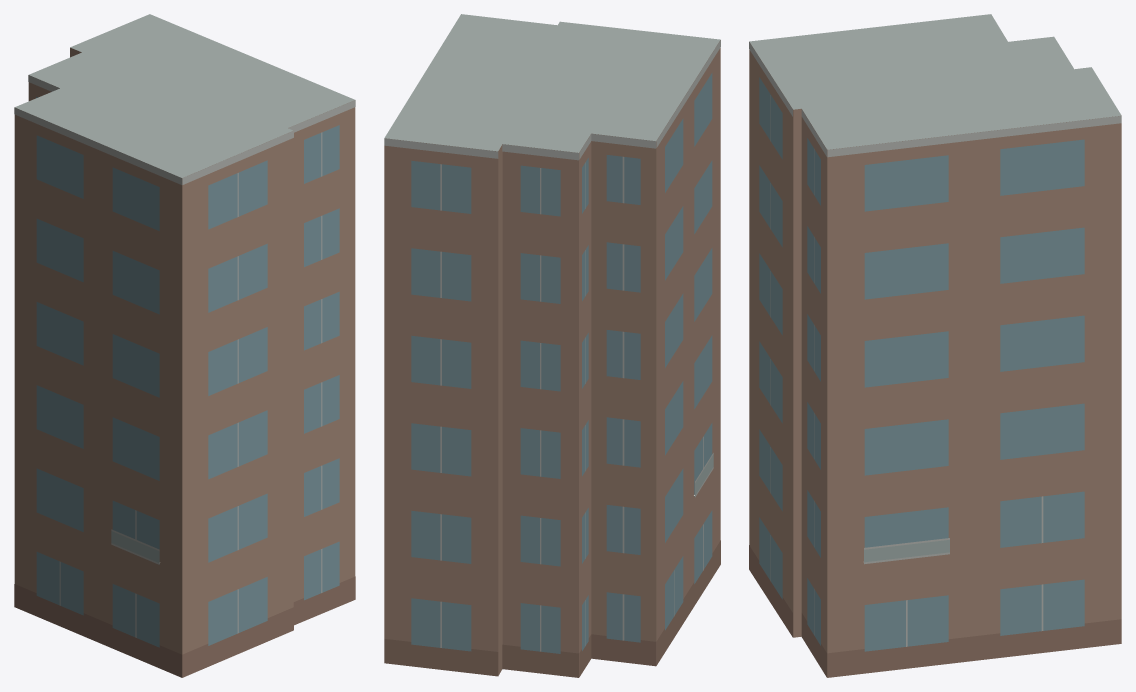
Rendered from survey-upis-32573617.glb.
3 renders of one model, left to right at view 1: azimuth 30°, elevation 25°; view 2: azimuth 150°, elevation 25°; view 3: azimuth 270°, elevation 25°, orthographic. The views are drawn at different scales.
Parts seen in each view (by area): view 1: survey-upis-32573617.tmp; view 2: survey-upis-32573617.tmp; view 3: survey-upis-32573617.tmp.
Boxes of the visible parts, x1=… form: survey-upis-32573617.tmp: x1=14, y1=14, x2=355, y2=677; survey-upis-32573617.tmp: x1=384, y1=14, x2=720, y2=677; survey-upis-32573617.tmp: x1=749, y1=14, x2=1121, y2=677.
Bounding box in the file's own units: 9.44 × 17.1 × 10.94.
